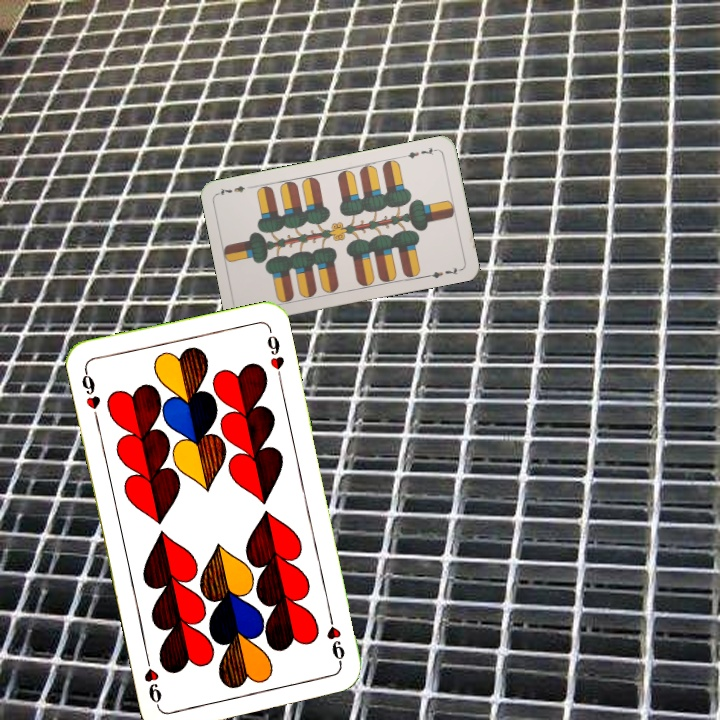E7: (400, 143, 440, 161)
H9: (77, 365, 103, 423), (322, 609, 347, 668)
